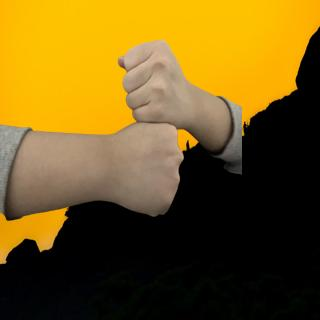CAREFUL: (11, 40, 245, 221)
